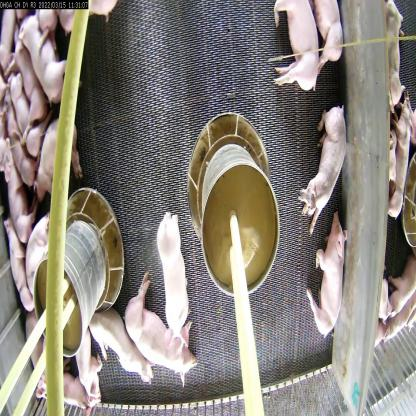Pig: (300, 104, 348, 233), (151, 206, 193, 336), (12, 13, 70, 105), (307, 217, 343, 357), (131, 298, 191, 377), (31, 113, 82, 204), (270, 0, 315, 98), (89, 302, 142, 364), (0, 121, 27, 240), (300, 0, 342, 67), (21, 223, 57, 289), (5, 217, 20, 298)
